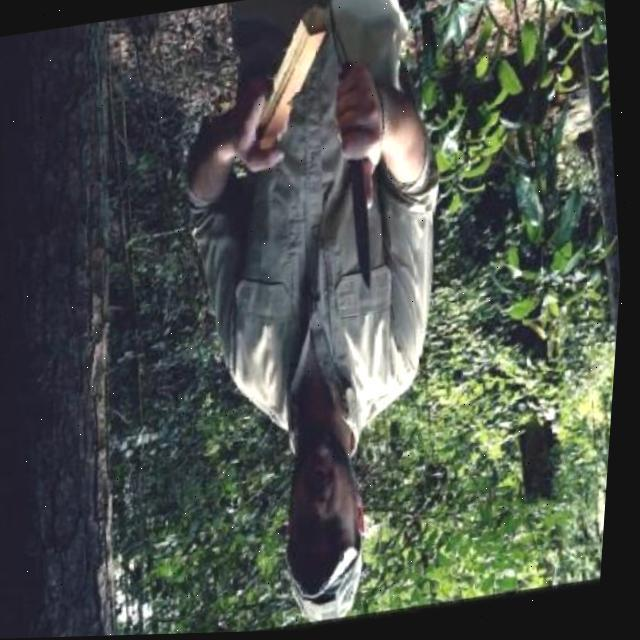knife: (326, 58, 388, 294)
